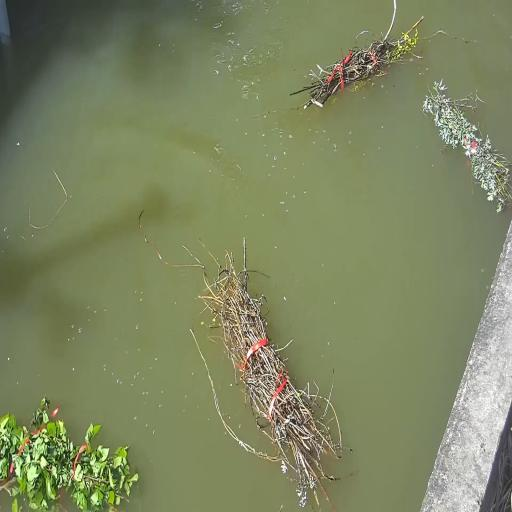twig: (190, 238, 343, 512), (0, 396, 138, 512), (290, 0, 423, 109), (422, 80, 512, 211)
